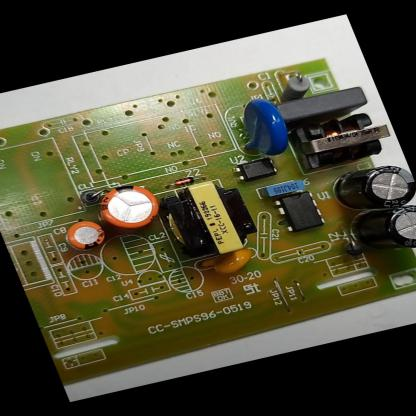Cap1: (88, 179, 167, 235)
Cap2: (60, 216, 110, 254)
Cap3: (328, 158, 416, 218)
Cap4: (350, 201, 416, 260)
MOSFET: (271, 188, 328, 234)
Mov: (221, 94, 296, 162)
Resistor: (271, 71, 316, 103)
Transformer: (161, 174, 264, 262), (288, 104, 401, 170)
